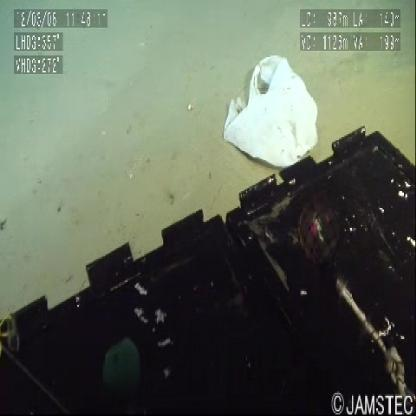Rov: (1, 105, 416, 410)
Rác: (212, 41, 338, 182)
